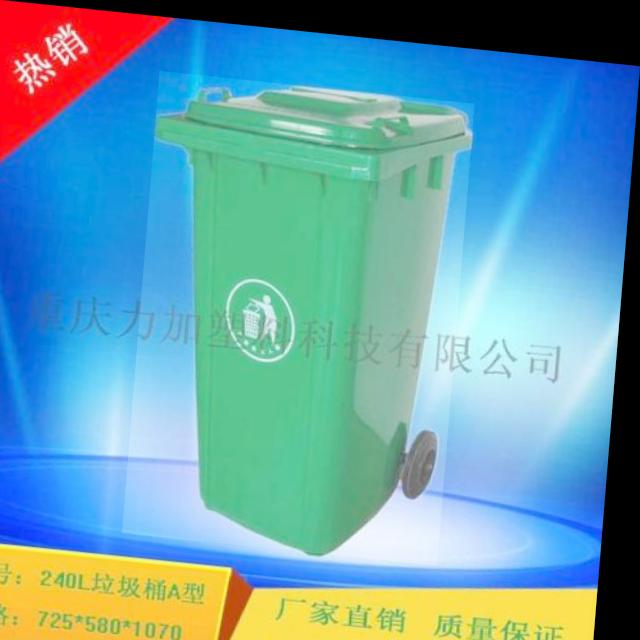garbage_bin: (131, 67, 476, 555)
